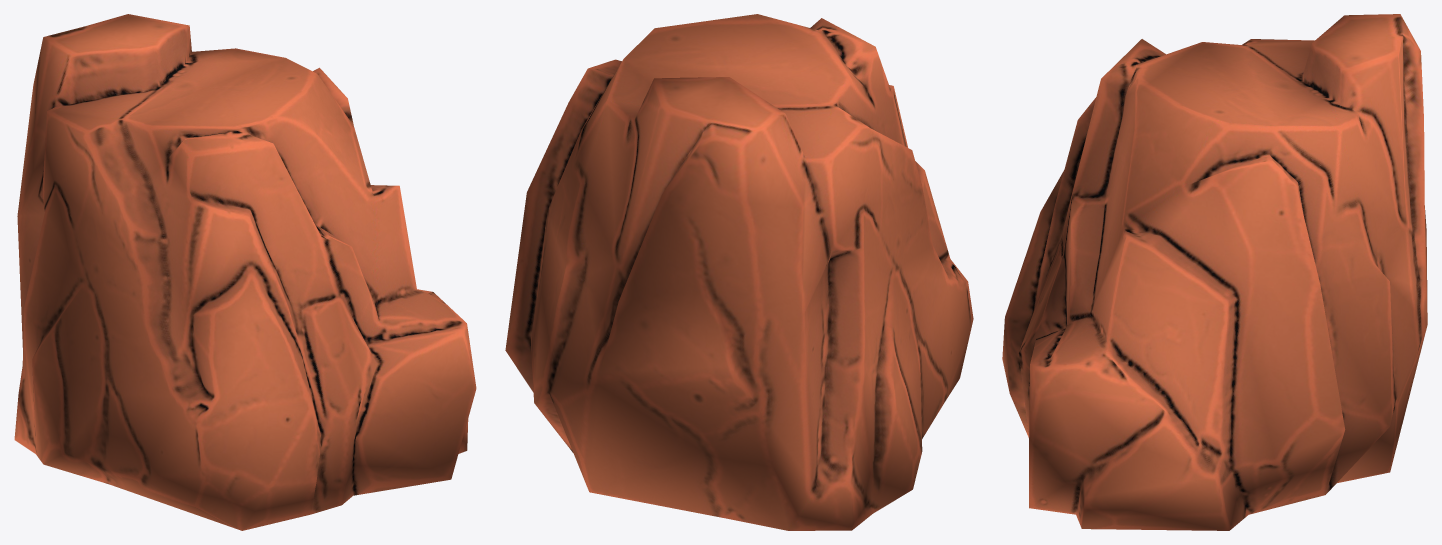
The model's file is rocks_3.glb.
The picture shows the model from 3 angles, left to right: view 1: azimuth 30°, elevation 25°; view 2: azimuth 150°, elevation 25°; view 3: azimuth 270°, elevation 25°; orthographic projection. The views are drawn at different scales.
Parts seen in each view (by area): view 1: rock_14; view 2: rock_14; view 3: rock_14.
Boxes of the visible parts, left/top/right/bottom form: rock_14: left=14, top=14, right=476, bottom=530; rock_14: left=505, top=14, right=973, bottom=530; rock_14: left=1002, top=14, right=1427, bottom=530.
Bounding box in the file's own units: 1.96 × 2 × 2.01.
1 material, 1 textured.
